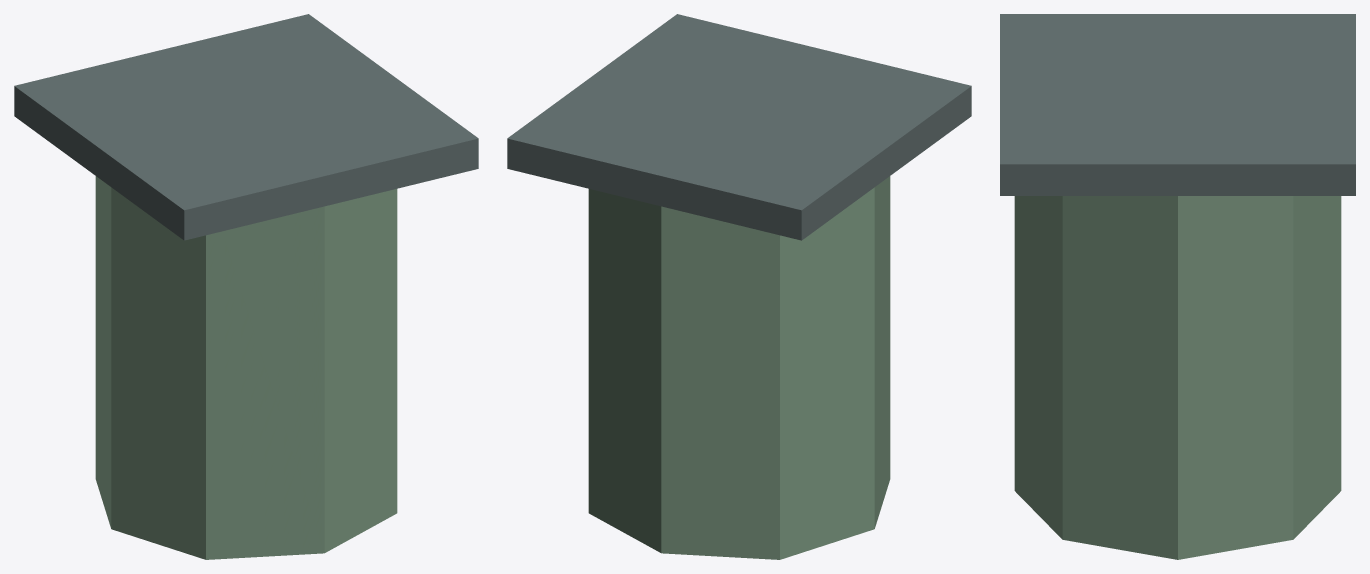
3 renders of one model, left to right at view 1: azimuth 30°, elevation 25°; view 2: azimuth 150°, elevation 25°; view 3: azimuth 270°, elevation 25°, orthographic. The views are drawn at different scales.
Bounding box in the file's own units: 0.61 × 0.76 × 0.61.
